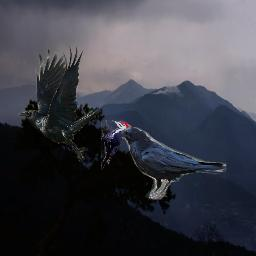Crow: (18, 44, 100, 162), (111, 127, 227, 200)
Woodpecker: (101, 120, 132, 171)
